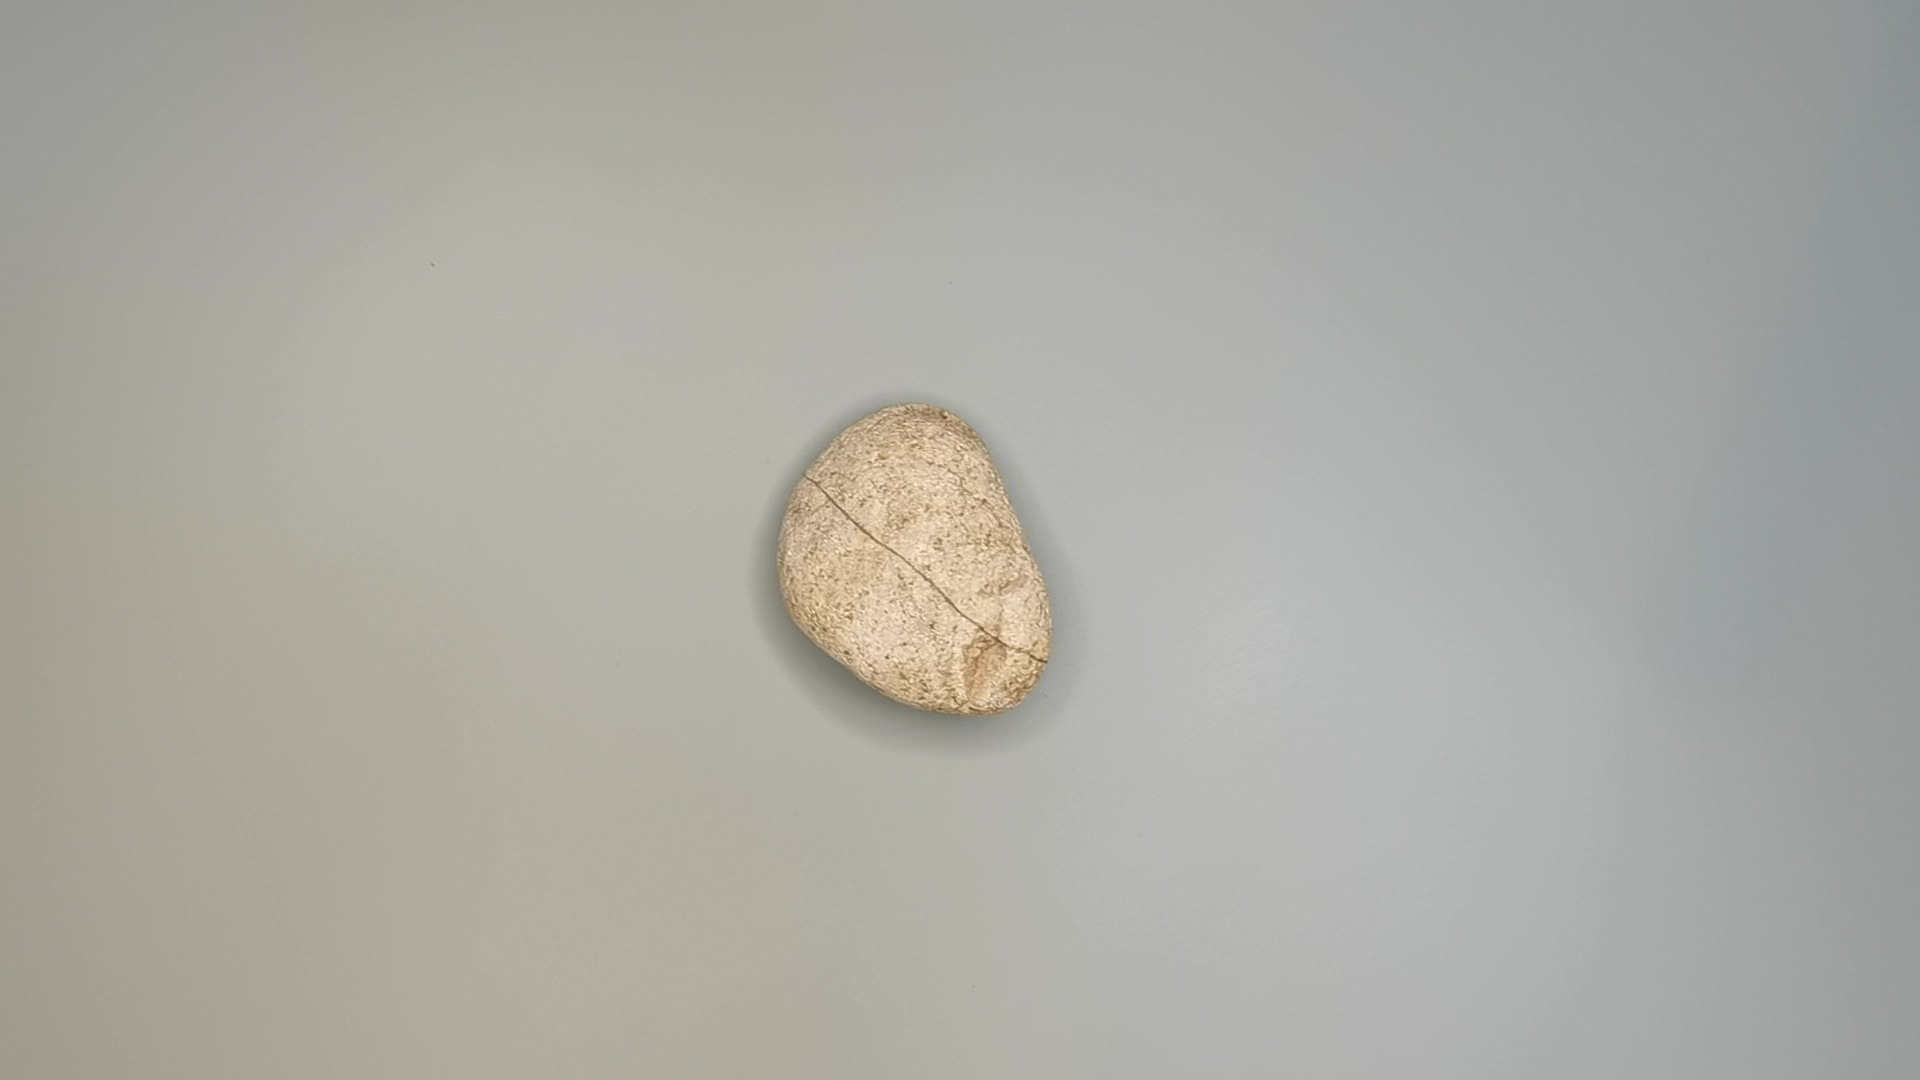ceramic: (764, 400, 1073, 724)
